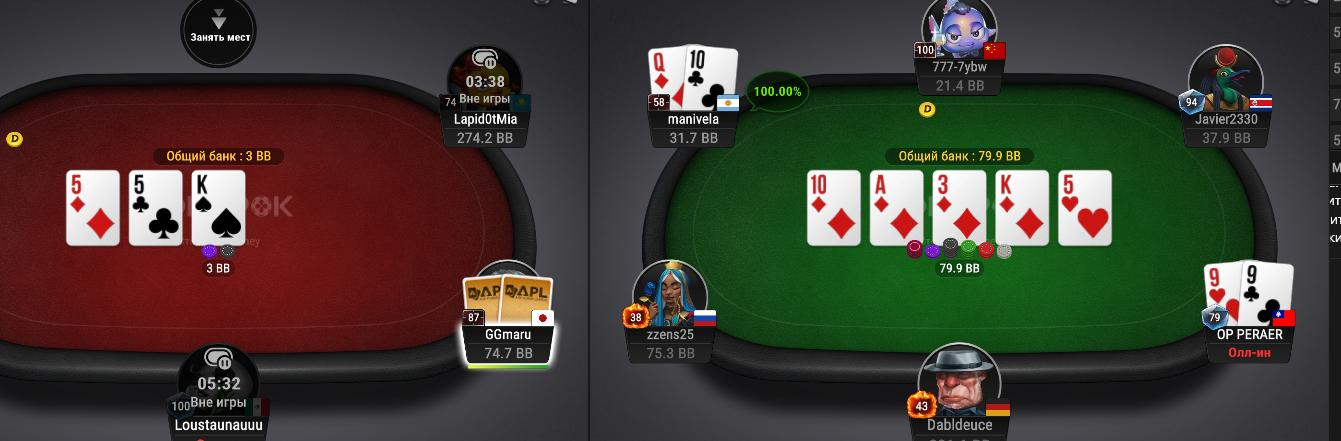10c: (685, 46, 738, 111)
10d: (808, 171, 862, 246)
3d: (932, 171, 987, 245)
5c: (130, 170, 183, 244)
5d: (68, 170, 119, 247)
5h: (1060, 170, 1111, 246)
9c: (1241, 262, 1294, 327)
9h: (1204, 262, 1241, 325)
Ad: (870, 171, 923, 243)
Kd: (993, 172, 1049, 243)
Ks: (192, 171, 246, 247)
Qd: (648, 47, 686, 110)
